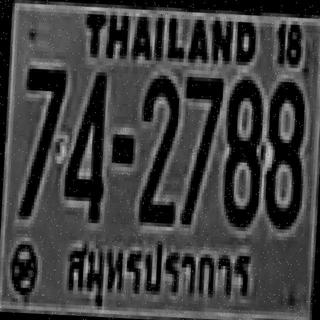N02: (136, 75, 180, 224)
N04: (61, 67, 108, 220)
N07: (18, 65, 66, 218), (177, 75, 221, 224), (20, 64, 67, 174), (180, 75, 222, 181)
N08: (262, 77, 306, 226), (221, 75, 263, 224)
P57: (60, 230, 260, 320)
